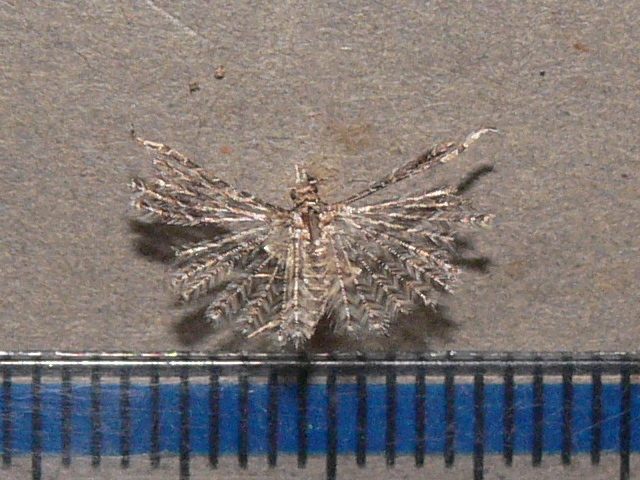Alucitidae: (125, 127, 512, 362)
moth: (123, 125, 510, 360)
